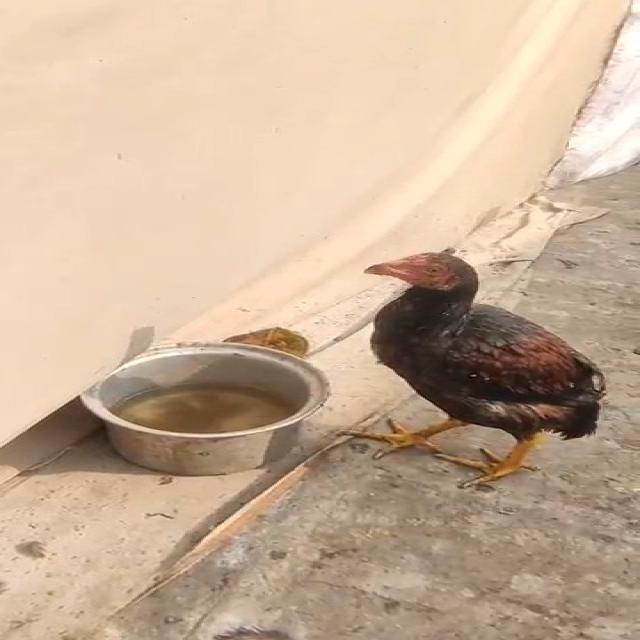drinking: (302, 240, 640, 482)
